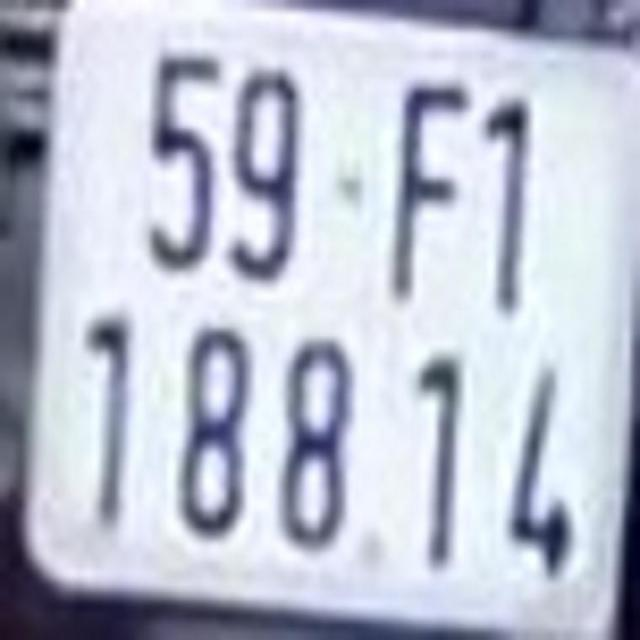1: (482, 93, 524, 310), (413, 352, 454, 563), (83, 315, 125, 519)
4: (509, 364, 571, 575)
5: (148, 50, 211, 273)
8: (283, 342, 352, 550), (184, 325, 244, 530)
9: (233, 65, 298, 274)
F: (392, 84, 469, 295)
